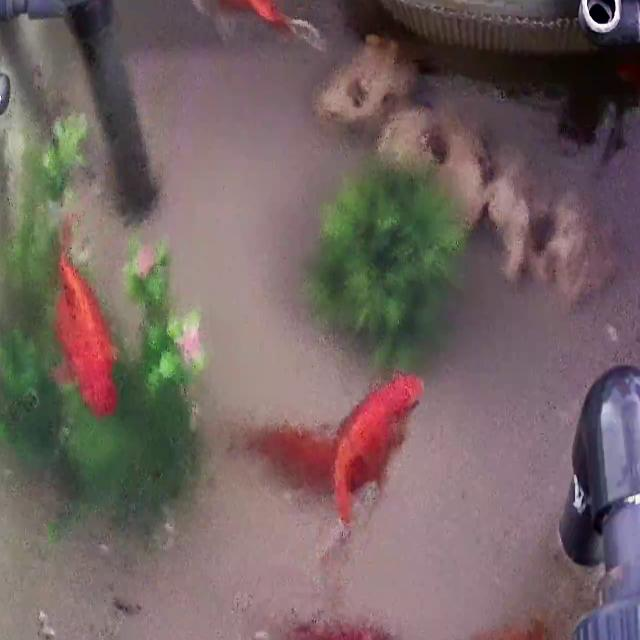fish: (333, 371, 422, 527), (51, 224, 121, 418), (242, 421, 340, 498), (182, 0, 321, 53), (285, 616, 394, 640), (454, 617, 548, 640)
